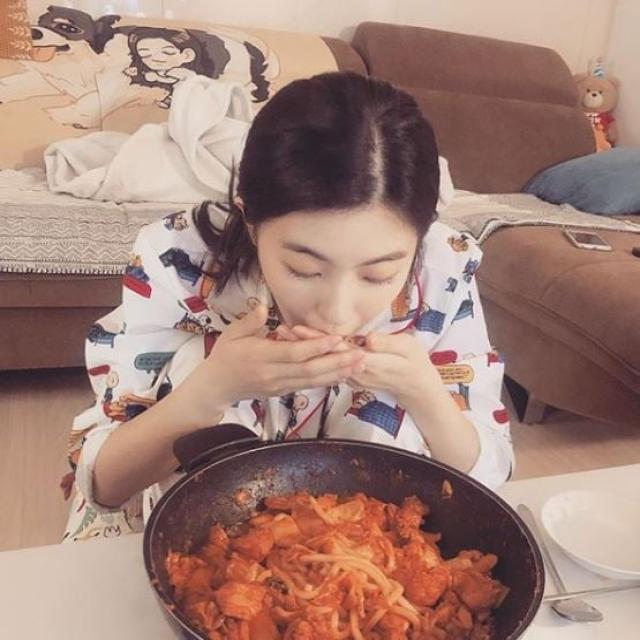eating-person: (61, 52, 587, 640)
